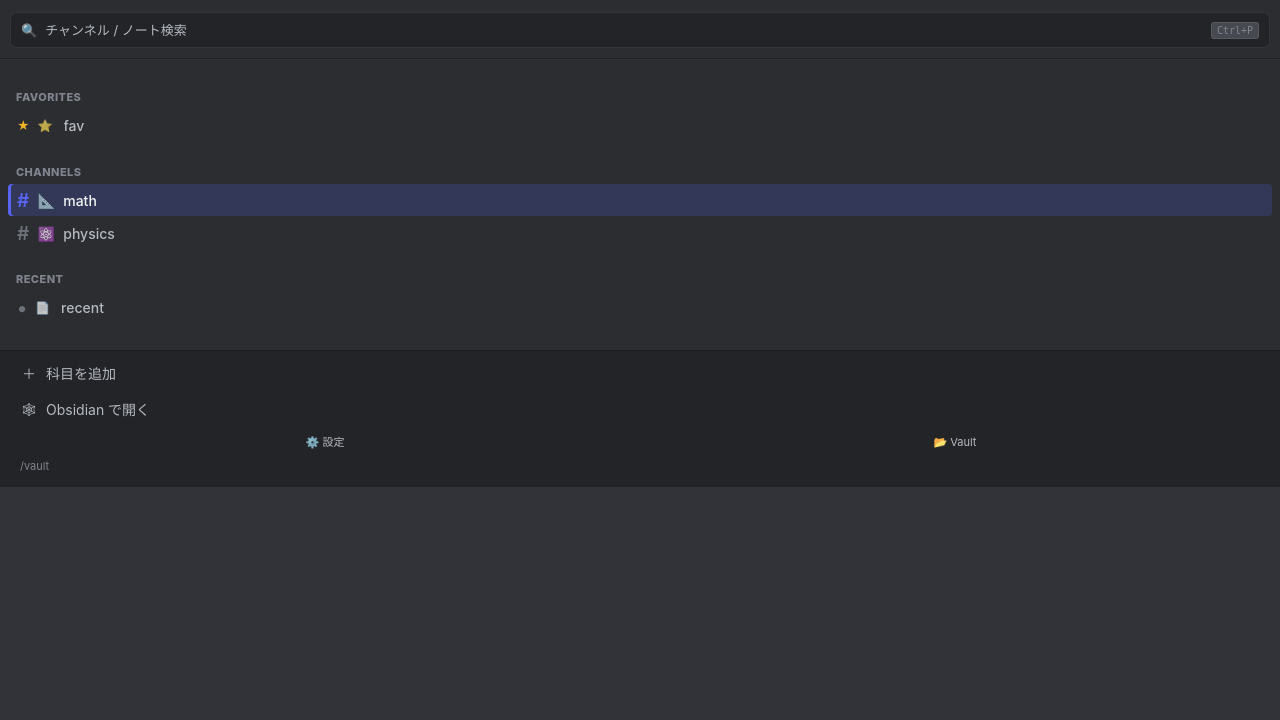
Sidebar context menu actions › shows default error message when createSubject fails without message
This screenshot has width=1280, height=720.
Click the text "科目を追加" at (81, 374), box [46,364,116,383]
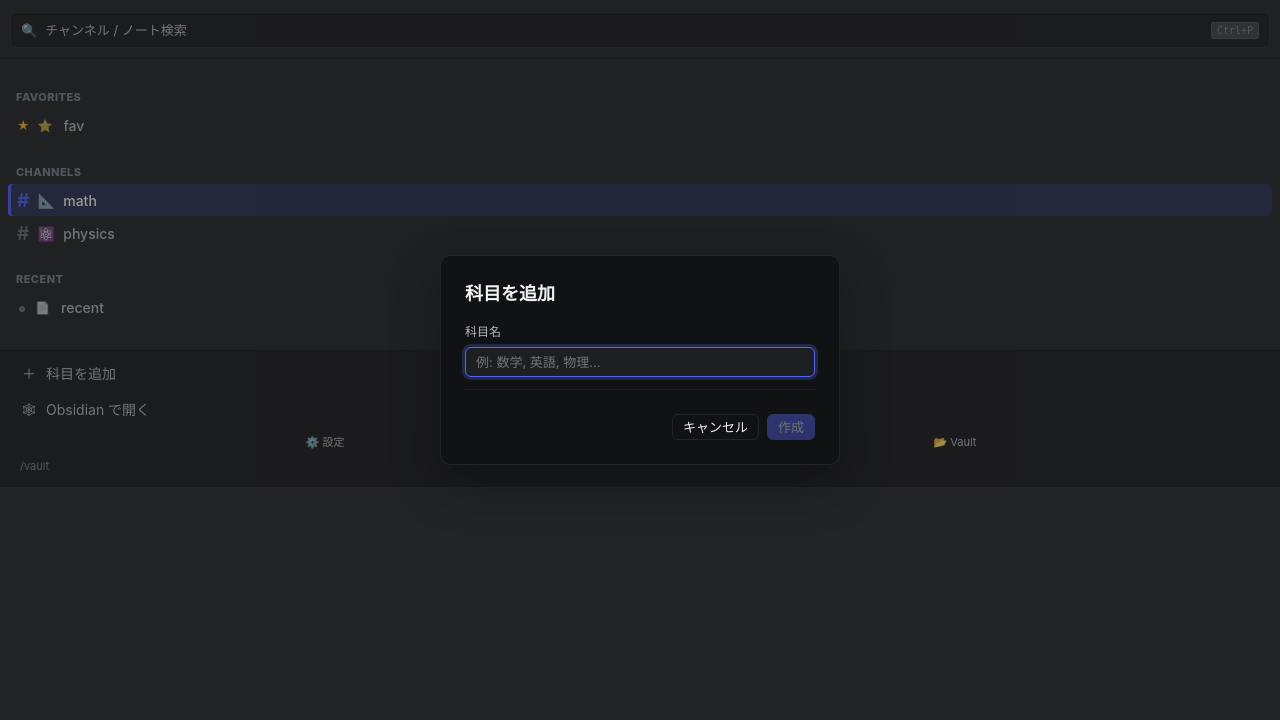
Type "test" into the field with placeholder "例: 数学, 英語, 物理..." at (640, 362), box [465,346,815,376]
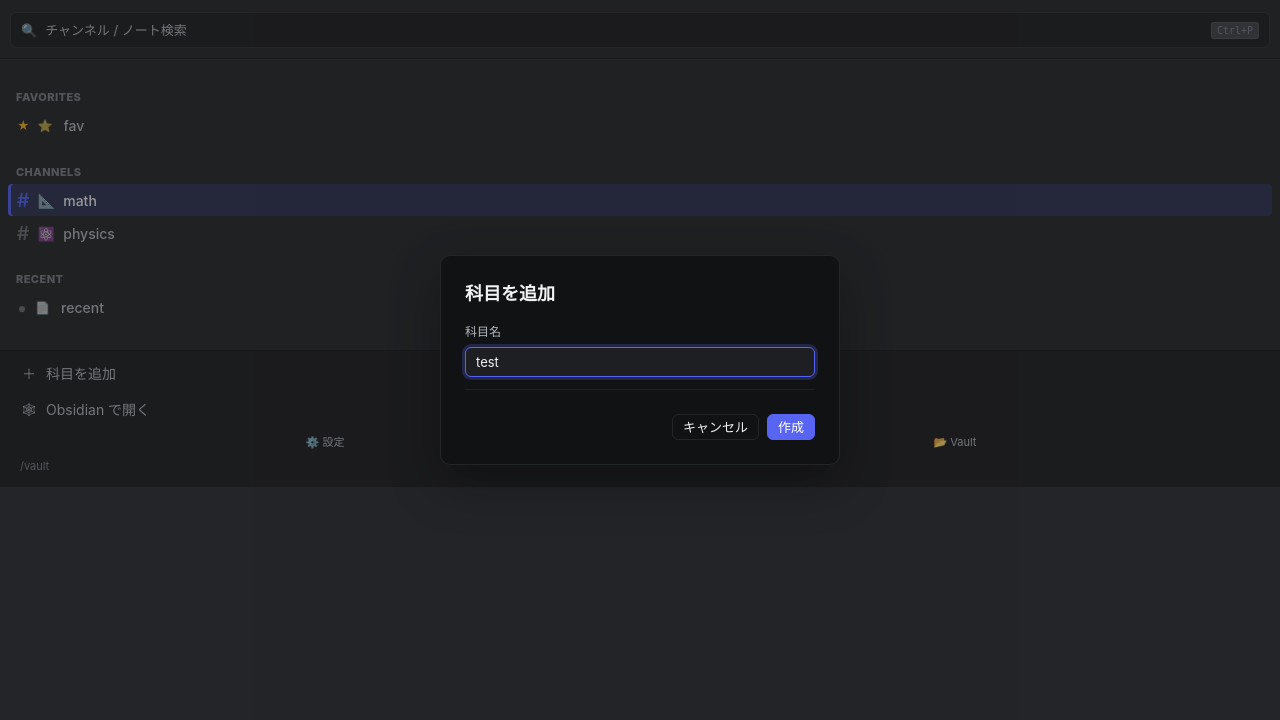
Click the button "作成" at (791, 427), box [767,414,815,440]
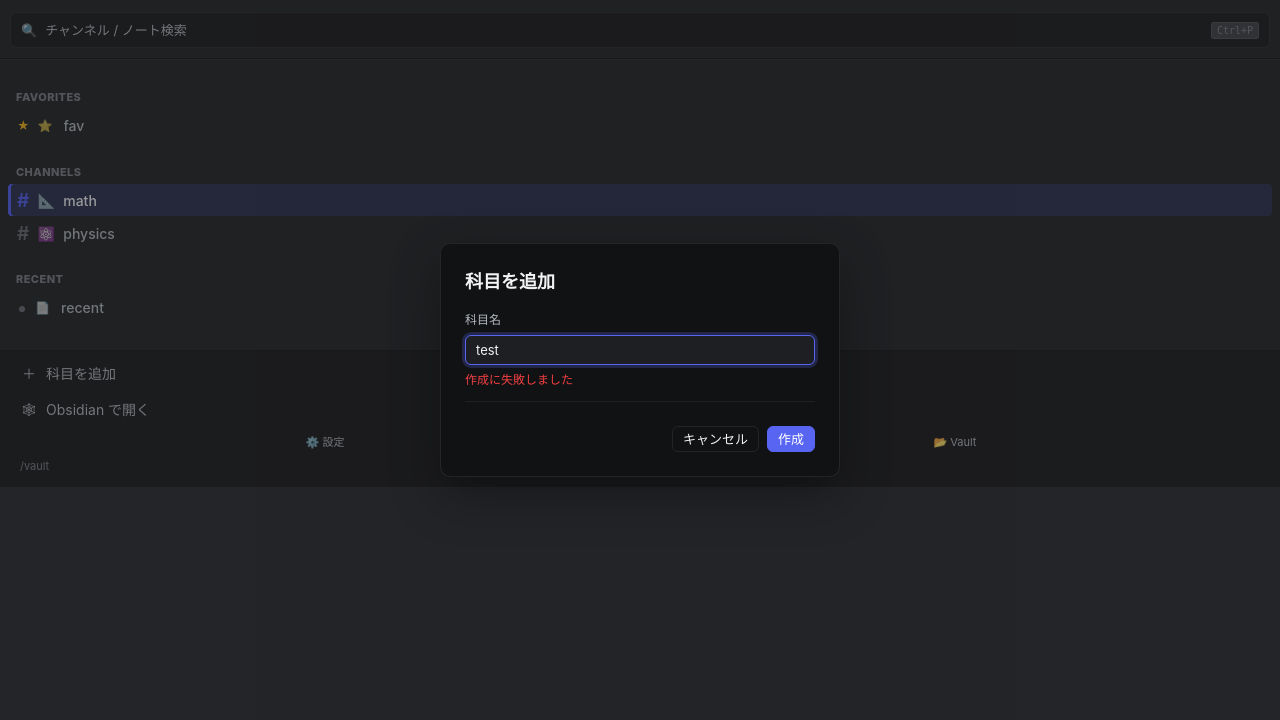
Expected: the text "作成に失敗しました" is shown, [465,372,573,386]
